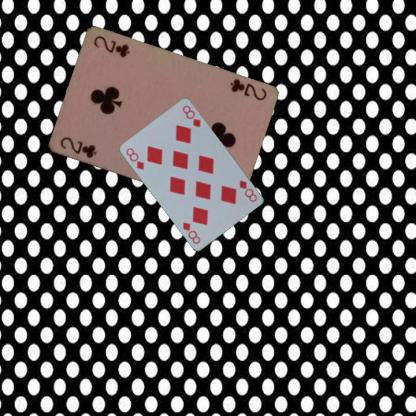2c: (57, 134, 98, 160), (226, 76, 267, 102)
8d: (124, 145, 146, 171), (237, 177, 258, 203)
